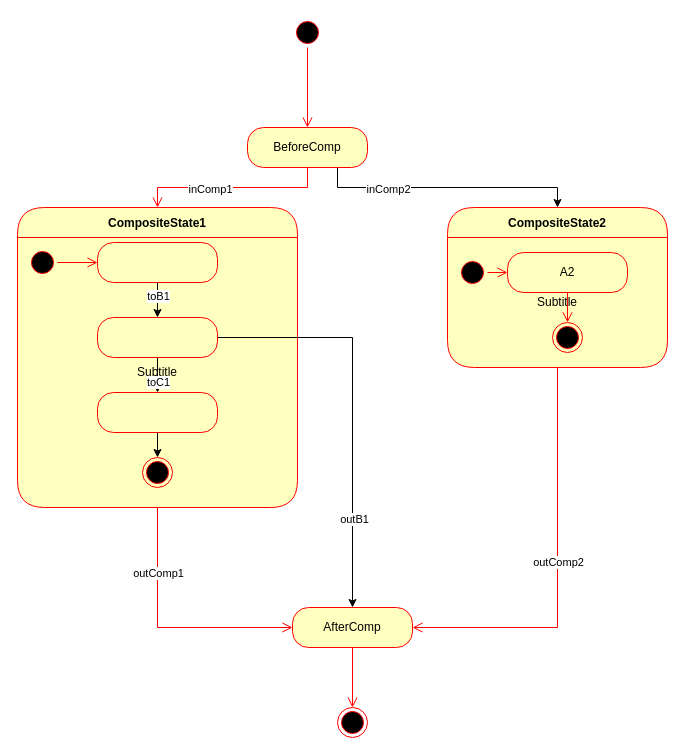
The diagram is 685 pixels wide and 755 high, and some of its shapes have lost their labels. The centre of each missing label's shape, as x and y in pixels:
"A1" goes at point (157, 262).
"B1" goes at point (157, 337).
"C1" goes at point (157, 412).
